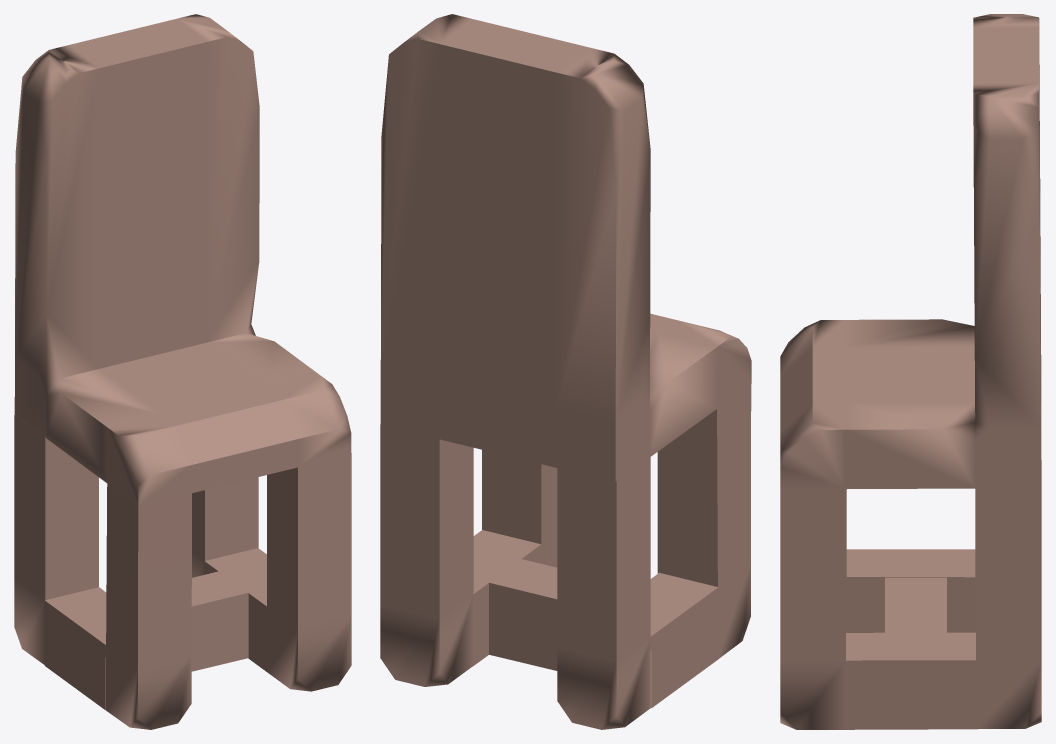
File: deskchair.fbx
3 views of the same model, side by side, from view 1: azimuth 30°, elevation 25°; view 2: azimuth 150°, elevation 25°; view 3: azimuth 270°, elevation 25° (orthographic). The views are drawn at different scales.
Visible parts, largest first — view 1: pCube15; view 2: pCube15; view 3: pCube15.
Boxes of the visible parts, <box> form: pCube15: <box>14,14,351,729</box>; pCube15: <box>380,14,751,729</box>; pCube15: <box>780,14,1041,729</box>.
Bounding box in the file's own units: 4 × 10.43 × 3.99.
